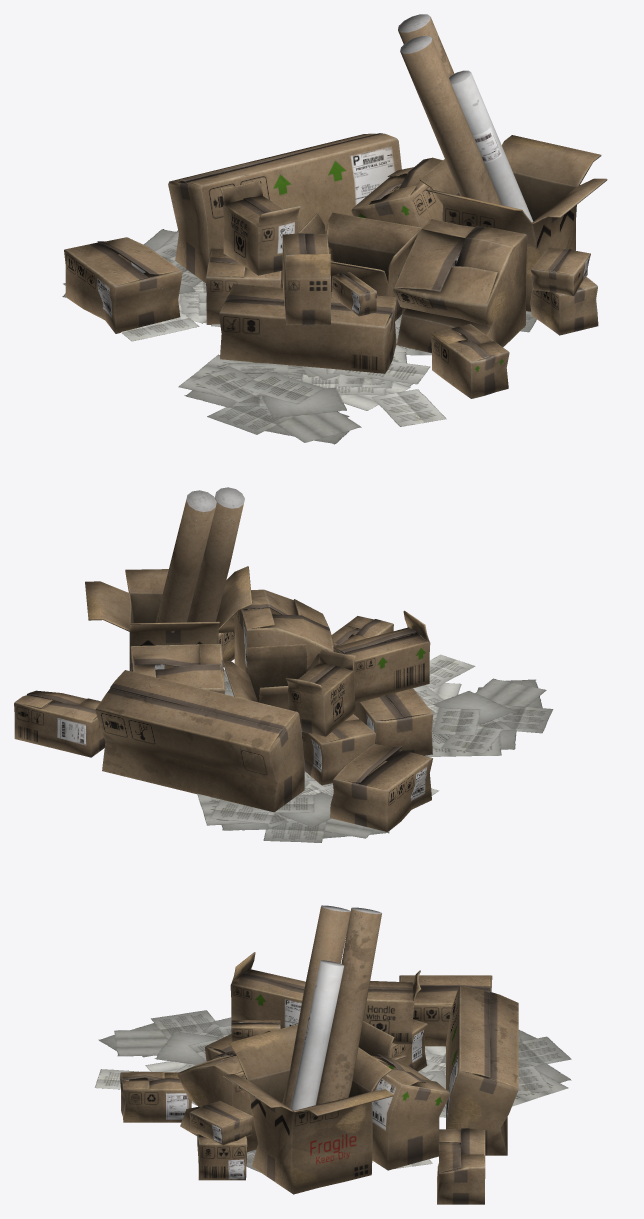
The model's file is carton_papel.obj.
3 renders of one model, top to bottom at view 1: azimuth 30°, elevation 25°; view 2: azimuth 150°, elevation 25°; view 3: azimuth 270°, elevation 25°, orthographic. The views are drawn at different scales.
Parts seen in each view (by area): view 1: Object_2, Object_3; view 2: Object_2, Object_3; view 3: Object_2, Object_3.
Boxes of the visible parts, left/top/right/bottom form: Object_2: left=64, top=14, right=607, bottom=398; Object_3: left=62, top=229, right=536, bottom=444; Object_2: left=14, top=487, right=433, bottom=831; Object_3: left=197, top=654, right=553, bottom=842; Object_2: left=120, top=905, right=518, bottom=1204; Object_3: left=94, top=1010, right=571, bottom=1172.
Size of the model in its own units: 3.68 by 1.78 by 4.22.
